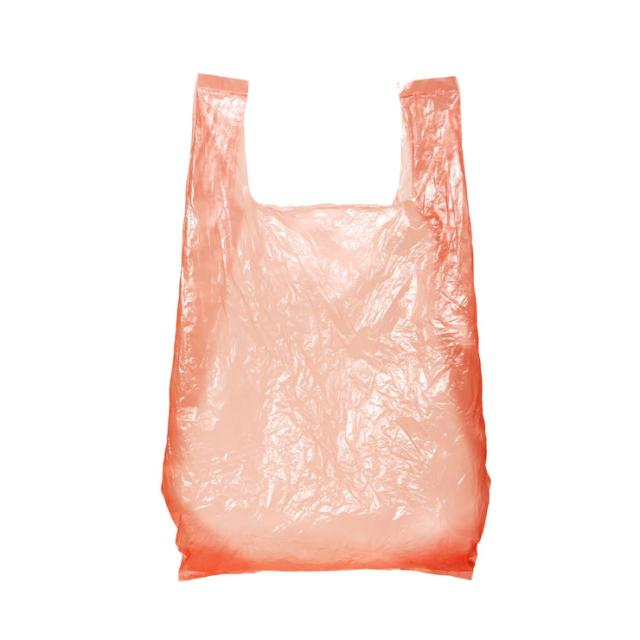plastic_bag: (162, 57, 498, 607)
